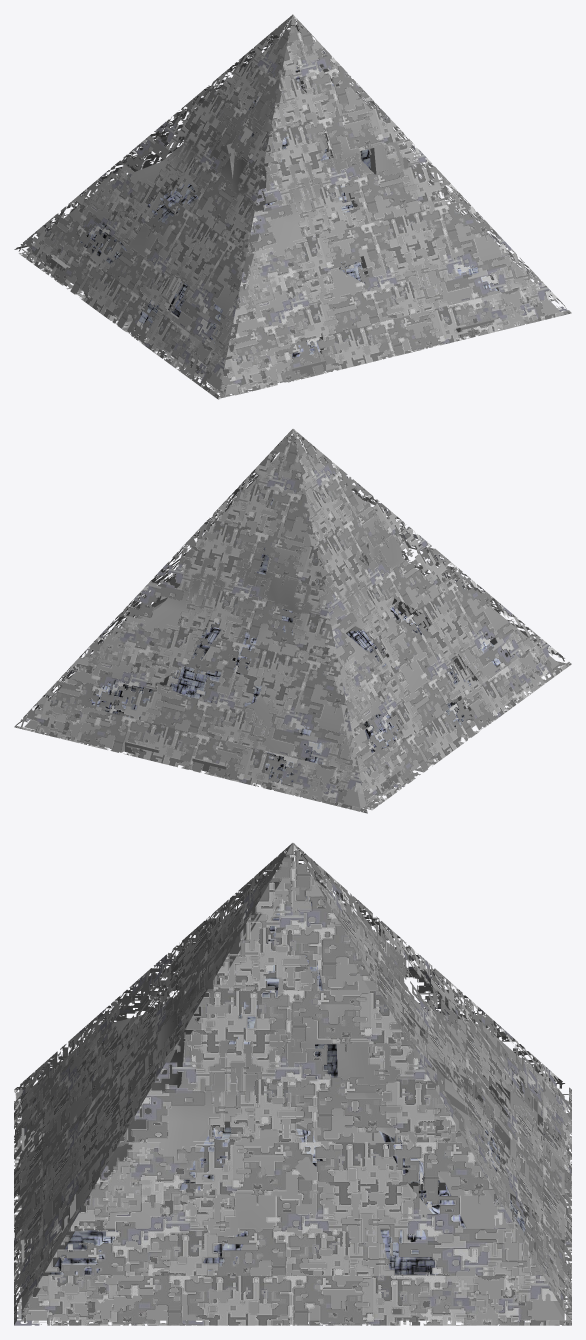
Rendered from Kqgyf`1.FBX.
3 renders of one model, top to bottom at view 1: azimuth 30°, elevation 25°; view 2: azimuth 150°, elevation 25°; view 3: azimuth 270°, elevation 25°, orthographic. The views are drawn at different scales.
Parts seen in each view (by area): view 1: Pyramid002, Pyramid001; view 2: Pyramid002, Pyramid001; view 3: Pyramid002, Pyramid001.
Part boxes in pixels (x1=…): Pyramid002: x1=14, y1=14, x2=571, y2=399; Pyramid001: x1=26, y1=29, x2=560, y2=394; Pyramid002: x1=14, y1=428, x2=571, y2=813; Pyramid001: x1=24, y1=442, x2=559, y2=807; Pyramid002: x1=14, y1=842, x2=571, y2=1325; Pyramid001: x1=21, y1=860, x2=564, y2=1320.
Bounding box in the file's own units: 93.69 × 69.2 × 93.69.
Materials: 3 (2 with a texture image).
